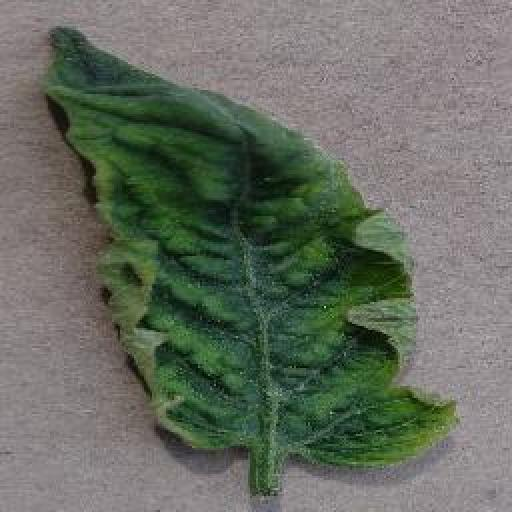disease_tomato: (36, 24, 463, 473)
